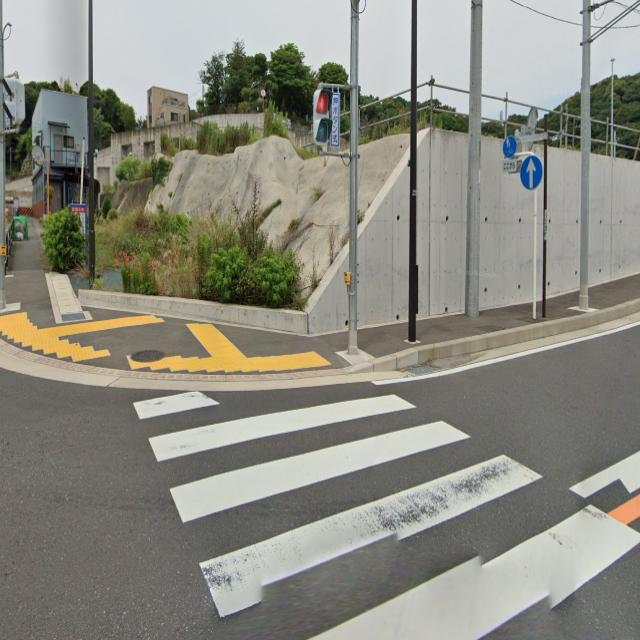traffic-light: (312, 81, 330, 146)
